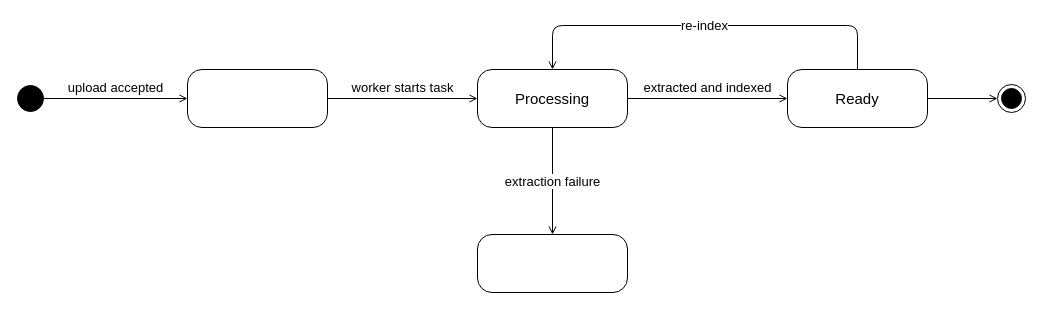
Some shapes in this 1043 by 310 pixel diagram are drawn without their labels. The box of each missing label's shape, as (x1, y1, x2, y2) in pixels:
Failed: (476, 234, 628, 292)
Pending: (186, 68, 328, 128)
